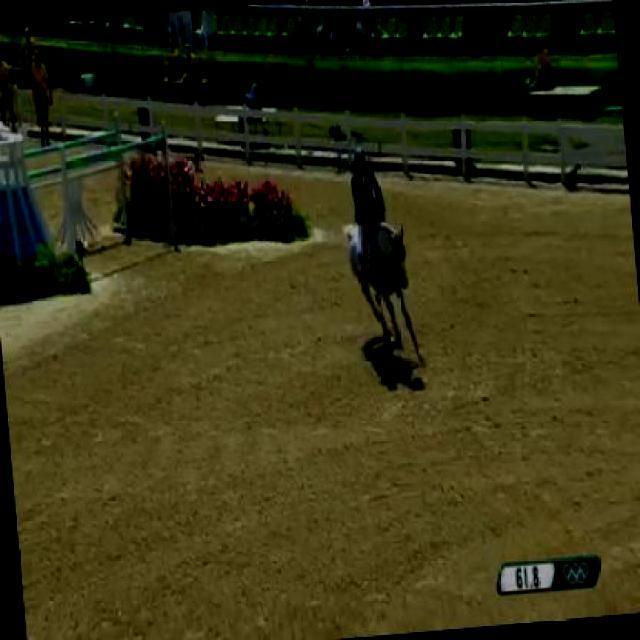non-fight: (338, 145, 422, 364)
